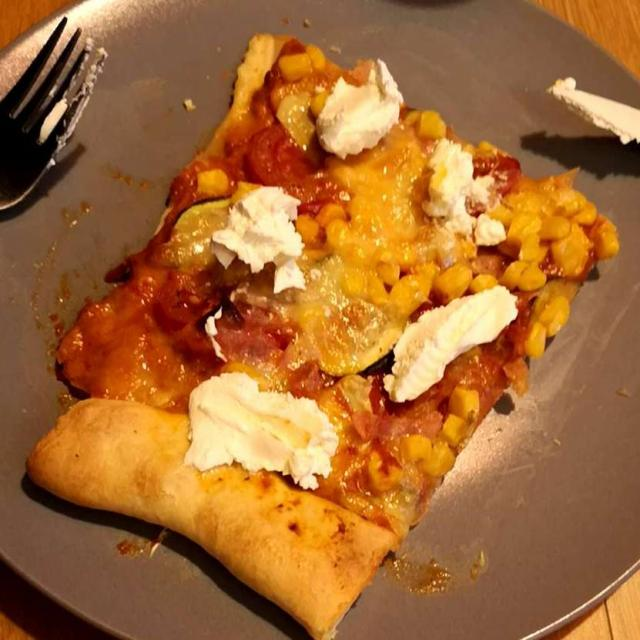pizza-with-vegetables-baked: (22, 27, 610, 640)
